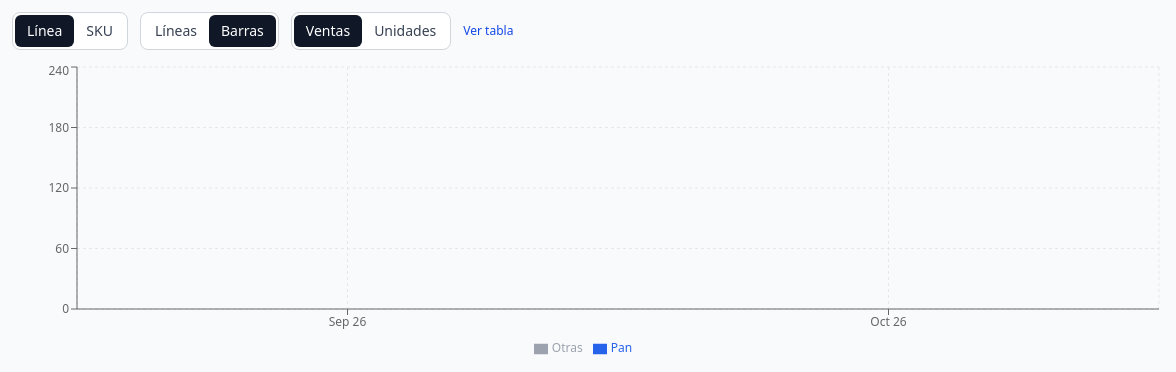
EvolutionPanel › the table follows the currency toggle
Click the button "Ver tabla" at (488, 31), box [463, 23, 513, 39]
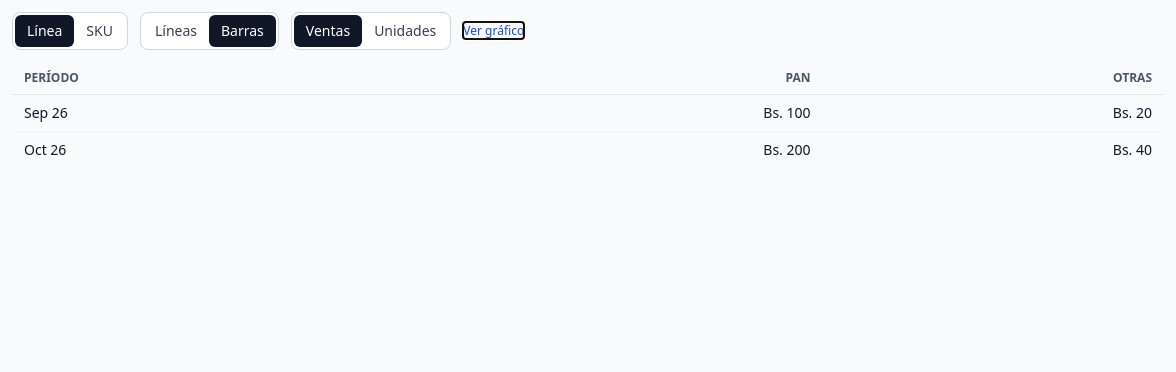
Check: the text "Bs. 200" is shown, box [438, 132, 822, 168]
